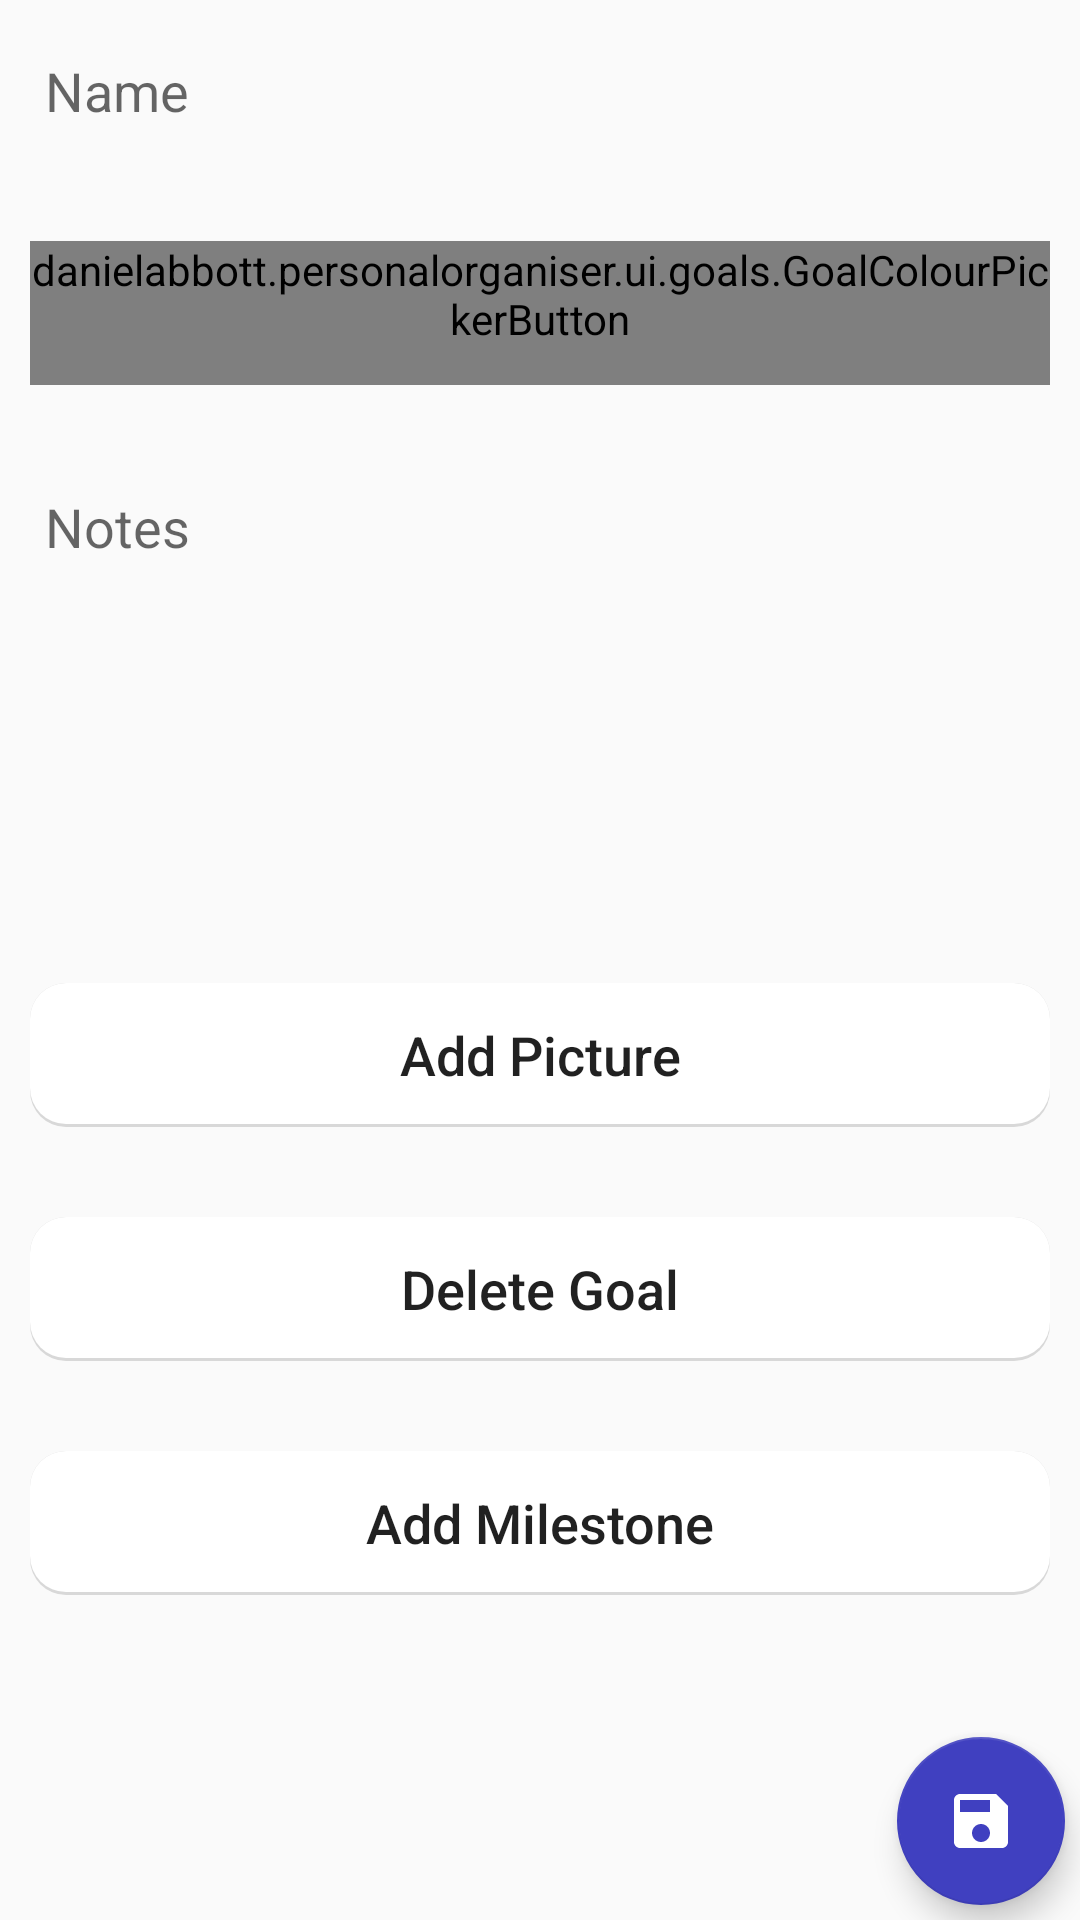

Screen size 1080x1920. Icon name, then its center in pixels as point (x, y):
fab save: point (981, 1821)
